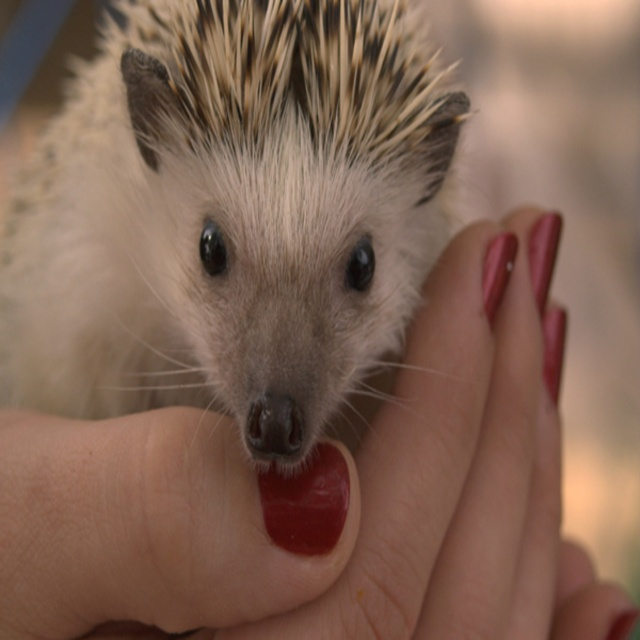Hedgehog: (0, 0, 481, 480)
